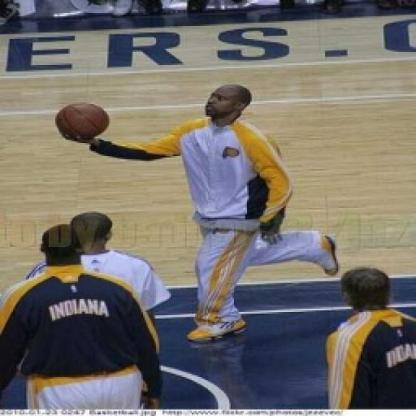basketball: (56, 102, 112, 140)
